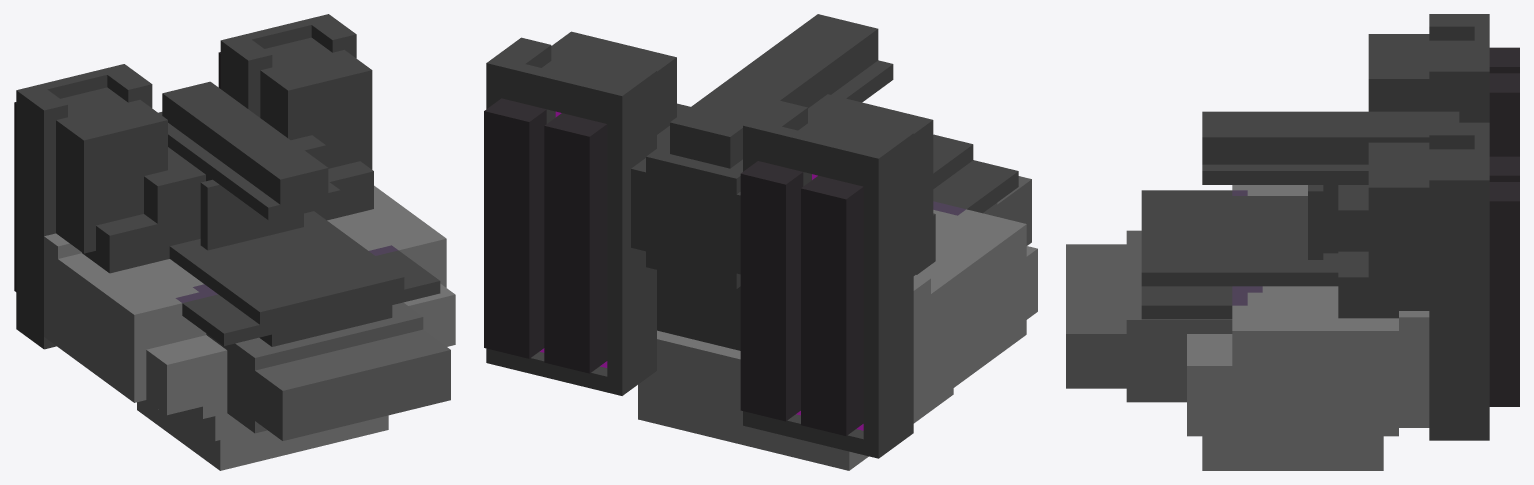
The model's file is _g_turret-1.obj.
3 renders of one model, left to right at view 1: azimuth 30°, elevation 25°; view 2: azimuth 150°, elevation 25°; view 3: azimuth 270°, elevation 25°, orthographic. The views are drawn at different scales.
Bounding box in the file's own units: 2.6 × 2.4 × 3.
